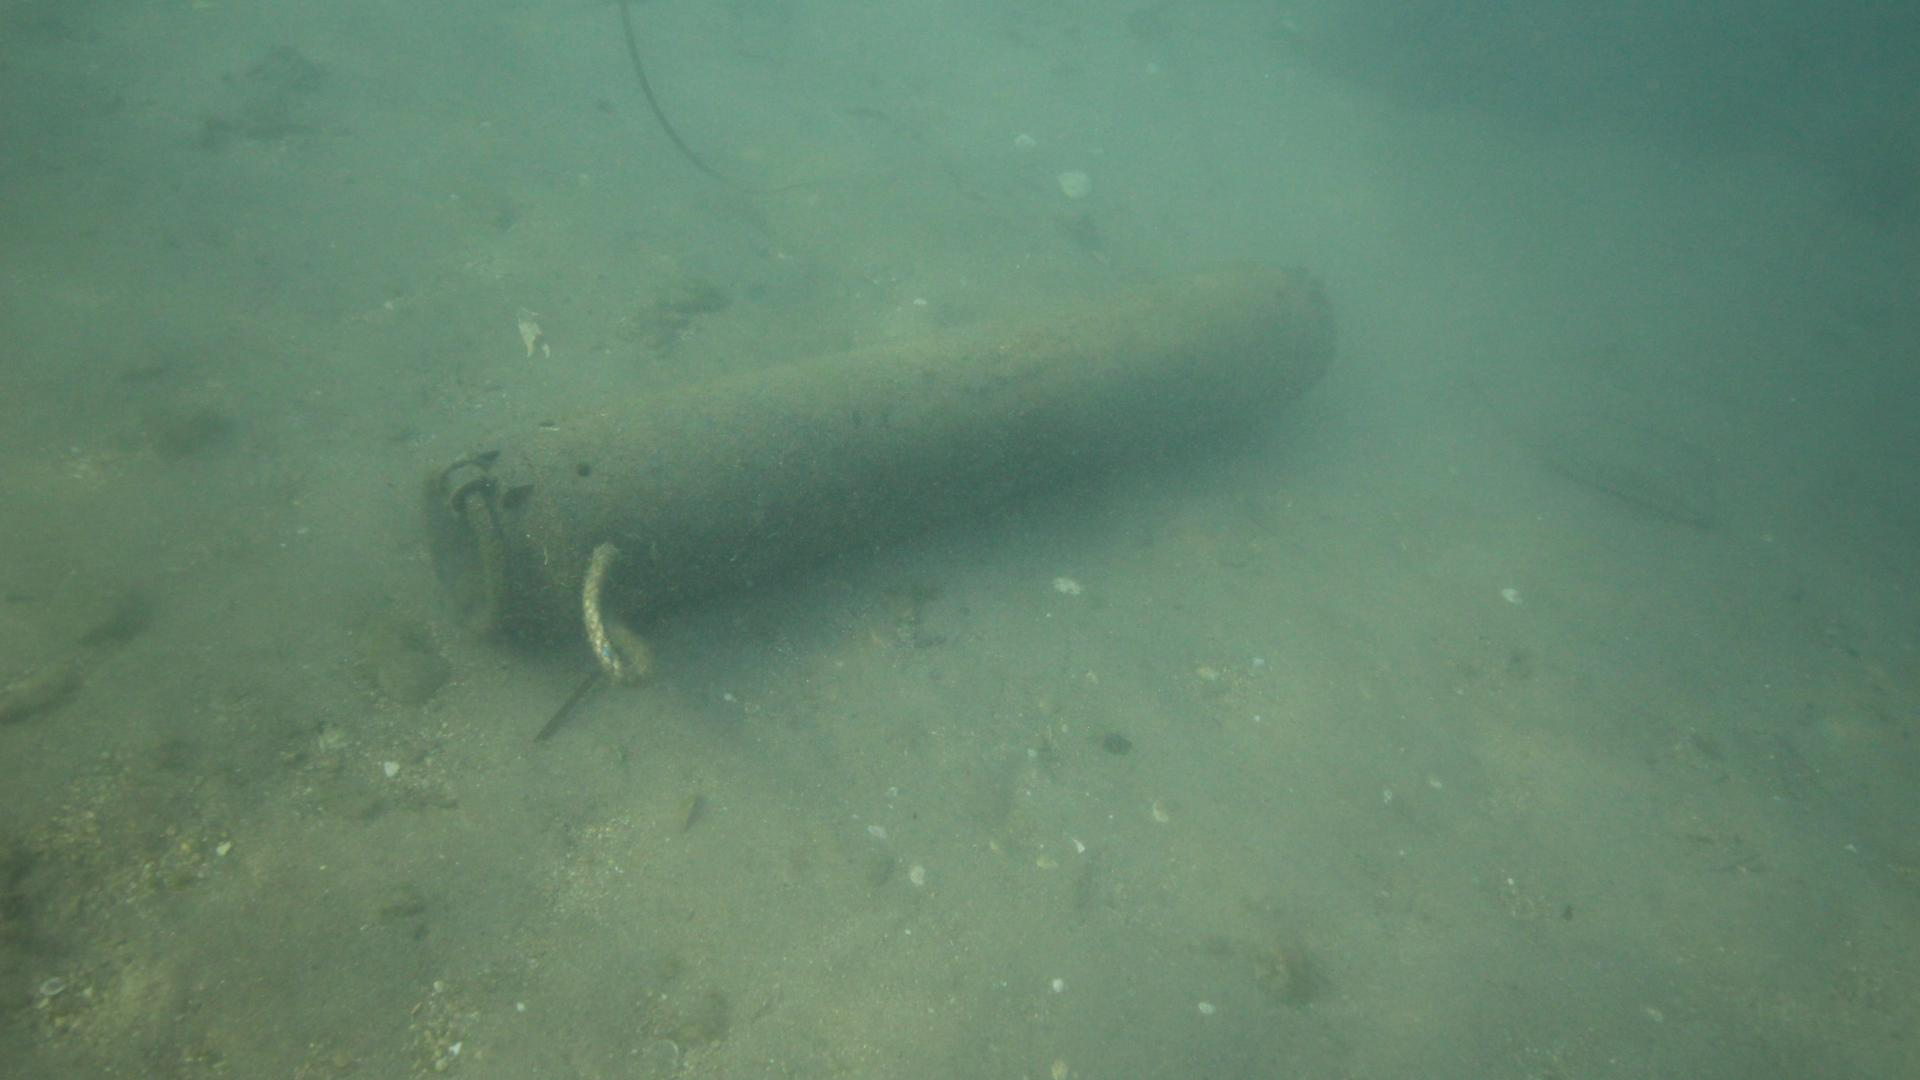eel fish trap: (419, 258, 1331, 637)
rope: (579, 545, 658, 684)
